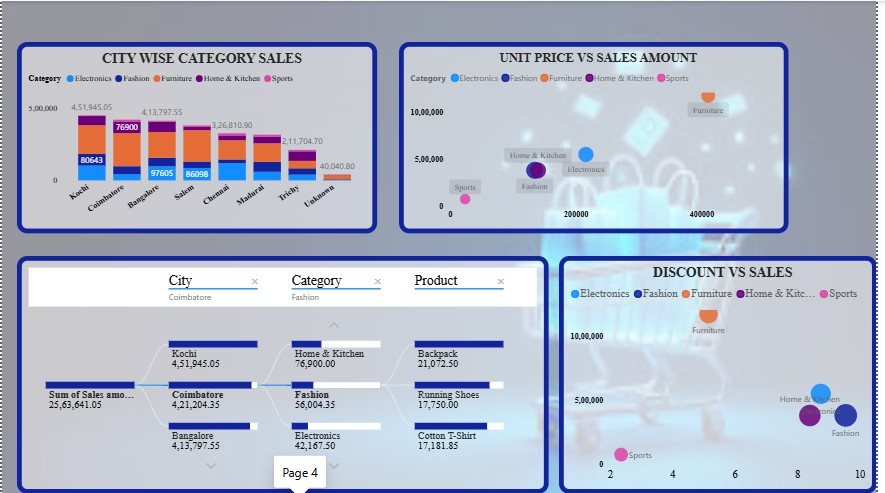

This screenshot's page, from the dashboard's own definition file:
{"tool":"powerbi","page":{"name":"Page 4","canvas":[1280,720],"ordinal":3},"visuals":[{"type":"columnChart","title":"CITY WISE CATEGORY SALES","fields":{"Category":["Sales Data.City"],"Series":["Sales Data.Category"],"Y":["Sum(Sales Data.Sales amount check)"]},"box":[21.3,60.4,527.3,280.5],"z":0},{"type":"decompositionTreeVisual","fields":{"Analyze":["Sum(Sales Data.Sales amount check)"],"ExplainBy":["Sales Data.City","Sales Data.Category","Sales Data.Product"]},"box":[21.3,372.8,777.6,348],"z":1000},{"type":"scatterChart","title":"UNIT PRICE VS SALES AMOUNT","fields":{"X":["Sum(Sales Data.Unit Price)"],"Y":["Sum(Sales Data.Sales amount check)"],"Size":["Sum(Sales Data.Quantity)"],"Series":["Sales Data.Category"]},"box":[580.5,60.4,569.9,280.5],"z":2000},{"type":"scatterChart","title":"DISCOUNT VS SALES","fields":{"X":["Sum(Sales Data.Discount check)"],"Y":["Sum(Sales Data.Sales amount check)"],"Size":["Sum(Sales Data.Quantity)"],"Series":["Sales Data.Category"]},"box":[814.9,372.8,465.1,348],"z":3000}]}

Visuals, with their boxes in screenshot pixels (x1, y1, x2, y2), scaled from the page's 1280x720 canvas onto the 885x493 screenshot:
"CITY WISE CATEGORY SALES" columnChart: left=15, top=41, right=379, bottom=233
decompositionTreeVisual - Sum(Sales Data.Sales amount check) x Sales Data.City: left=15, top=255, right=552, bottom=492
"UNIT PRICE VS SALES AMOUNT" scatterChart: left=401, top=41, right=795, bottom=233
"DISCOUNT VS SALES" scatterChart: left=563, top=255, right=884, bottom=492
